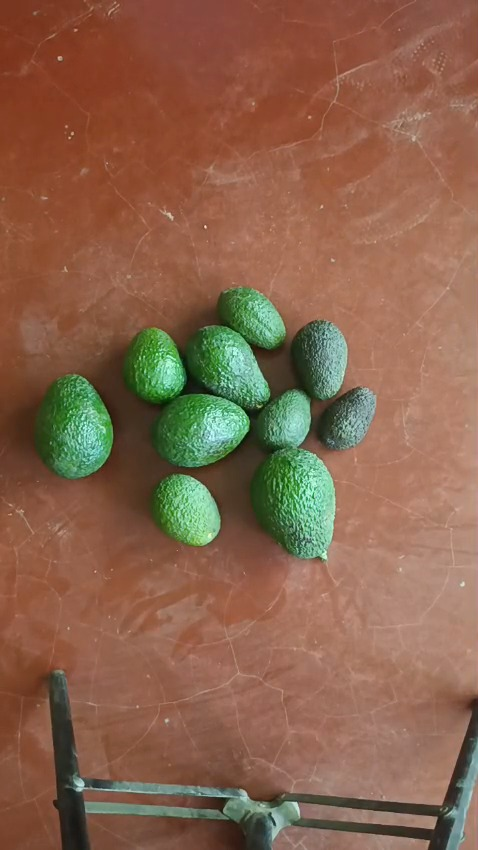Primera: (249, 447, 335, 557), (33, 374, 114, 478)
Segunda: (184, 325, 270, 410), (152, 394, 248, 467)
Tercera: (148, 472, 221, 546), (122, 327, 186, 403), (290, 320, 348, 400), (216, 286, 286, 350), (317, 386, 376, 450), (254, 389, 312, 452)
